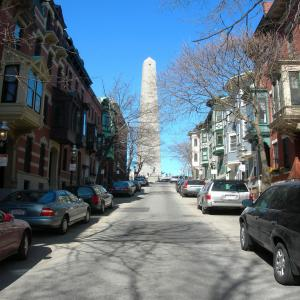Vehicle-registration-plate: (10, 210, 25, 215), (225, 195, 237, 200)
